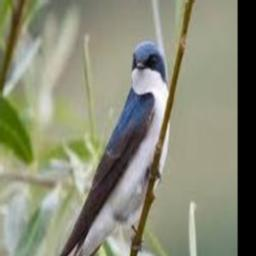Swallow: (44, 40, 170, 256)
